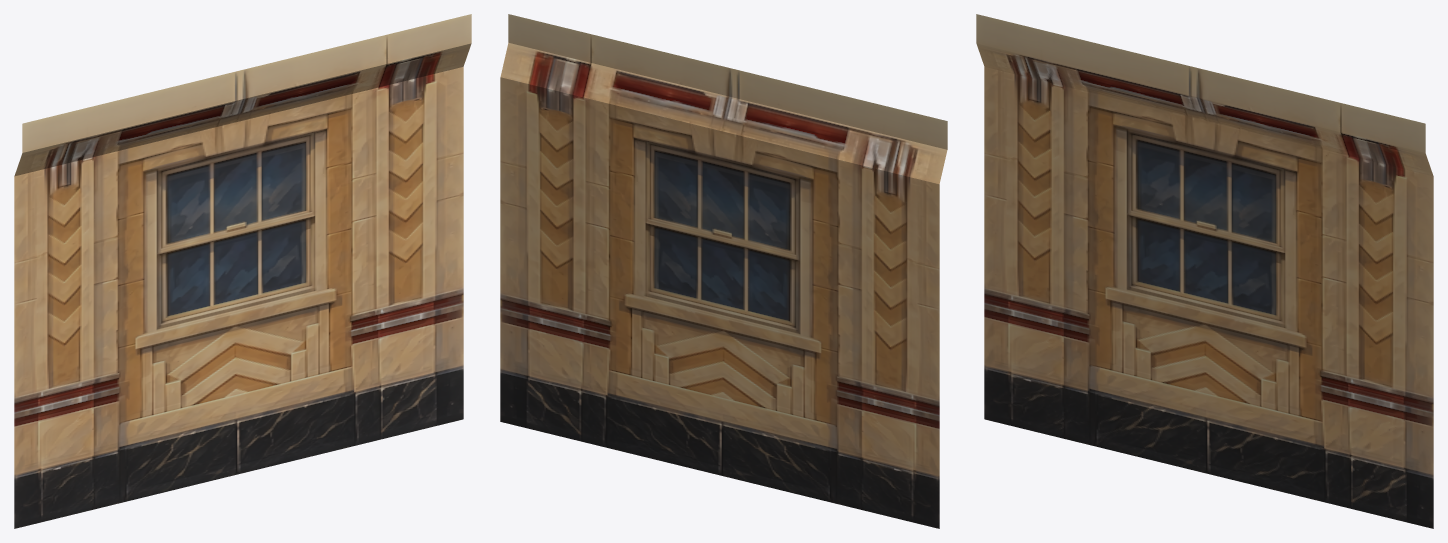
File: DECO_U_Bay4A.fbx
The picture shows the model from 3 angles, left to right: view 1: azimuth 30°, elevation 25°; view 2: azimuth 150°, elevation 25°; view 3: azimuth 330°, elevation 25°; orthographic projection. The views are drawn at different scales.
Parts seen in each view (by area): view 1: DECO_U_Bay4A; view 2: DECO_U_Bay4A; view 3: DECO_U_Bay4A.
Part boxes in pixels (x1,y1,x2,y2): DECO_U_Bay4A: [14, 14, 471, 528]; DECO_U_Bay4A: [500, 14, 947, 528]; DECO_U_Bay4A: [976, 14, 1433, 528].
Size of the model in its own units: 4 by 0.125 by 3.5.
1 material, 1 textured.
